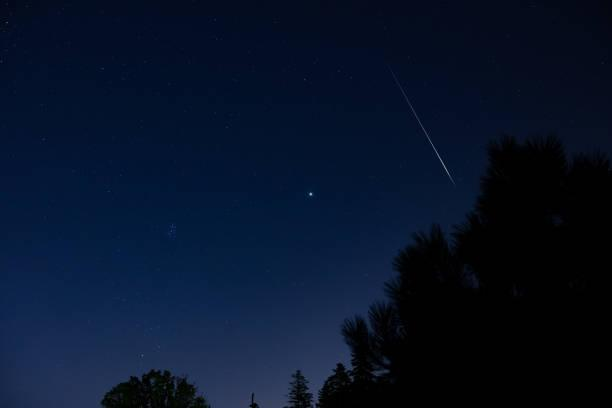meteor: (442, 163, 462, 189)
